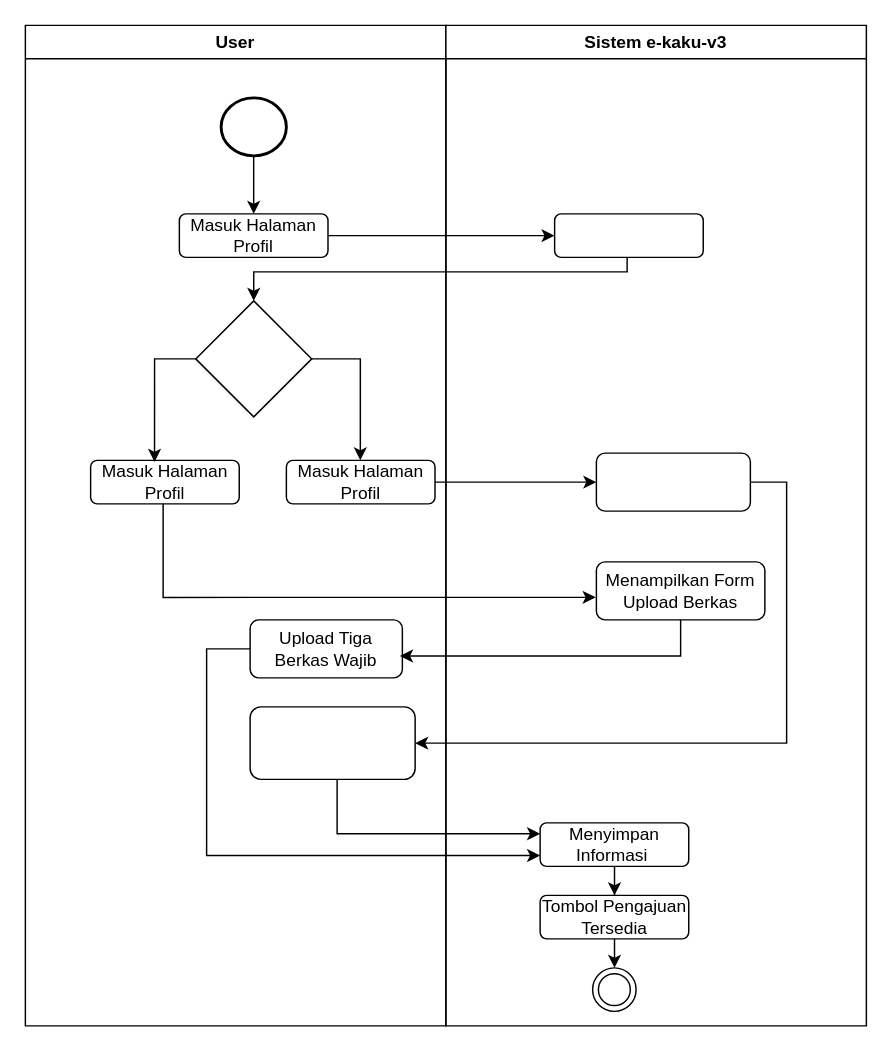
The diagram is 892 pixels wide and 1051 high, and some of its shapes have lost their labels. Each missing label, with the centre of its shape:
"Isi Biodata dan Konfirmasi Perubahan Data Diri" belongs at (332,742).
"Memuat Halaman Profil" belongs at (628,234).
"Menampilkan Form Isi Biodata" belongs at (672,481).
"Tujuan?" belongs at (253,358).
